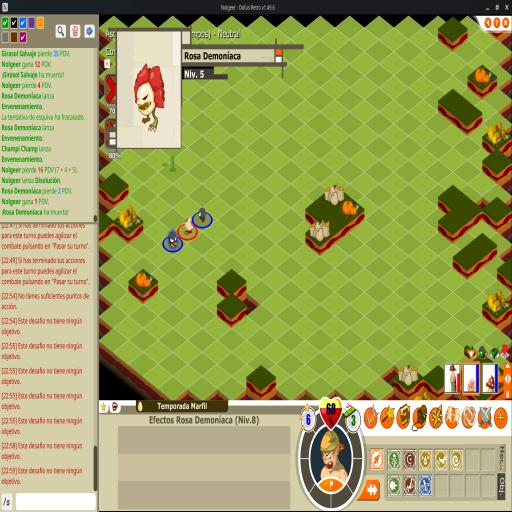Enemigos: (167, 229, 179, 249), (197, 206, 207, 223)
Personaje: (184, 216, 194, 236)
